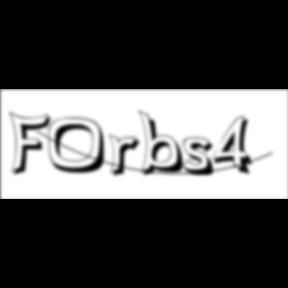4: (212, 115, 258, 179)
F: (9, 110, 57, 178)
O: (48, 117, 114, 176)
b: (138, 109, 190, 179)
r: (109, 134, 147, 180)
s: (182, 137, 222, 179)
